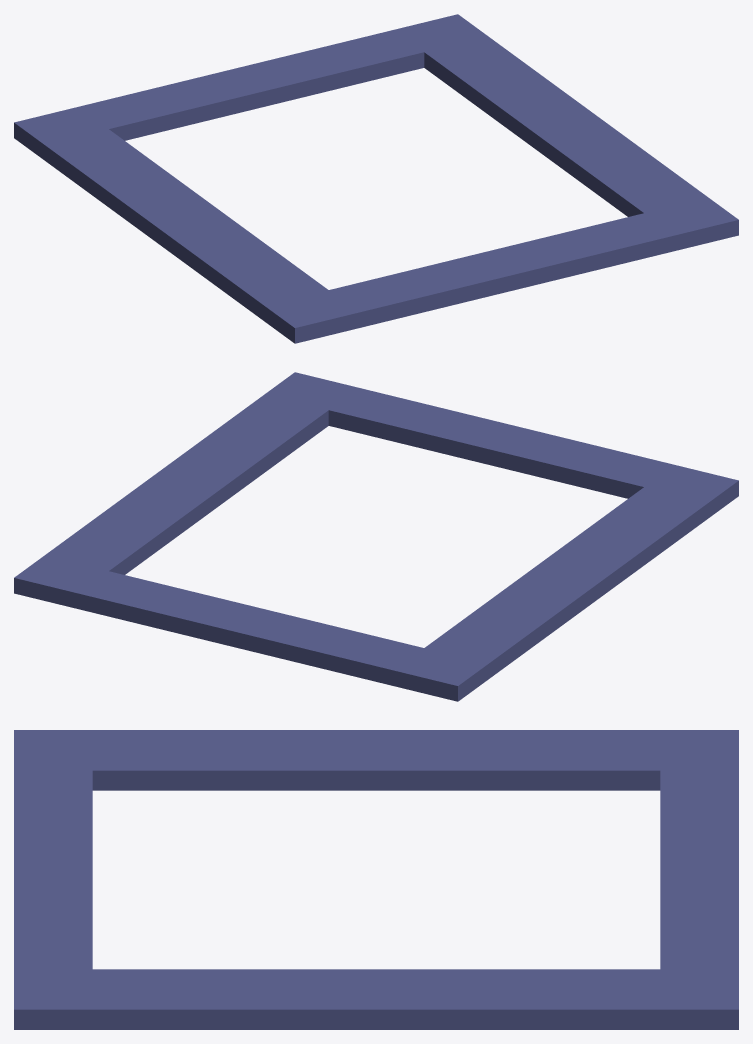
Rendered from keep-wd02_186.obj.
The picture shows the model from 3 angles, top to bottom: view 1: azimuth 30°, elevation 25°; view 2: azimuth 150°, elevation 25°; view 3: azimuth 270°, elevation 25°; orthographic projection. The views are drawn at different scales.
Size of the model in its own units: 0.8906 by 0.03 by 0.9761.
1 material, 1 textured.
